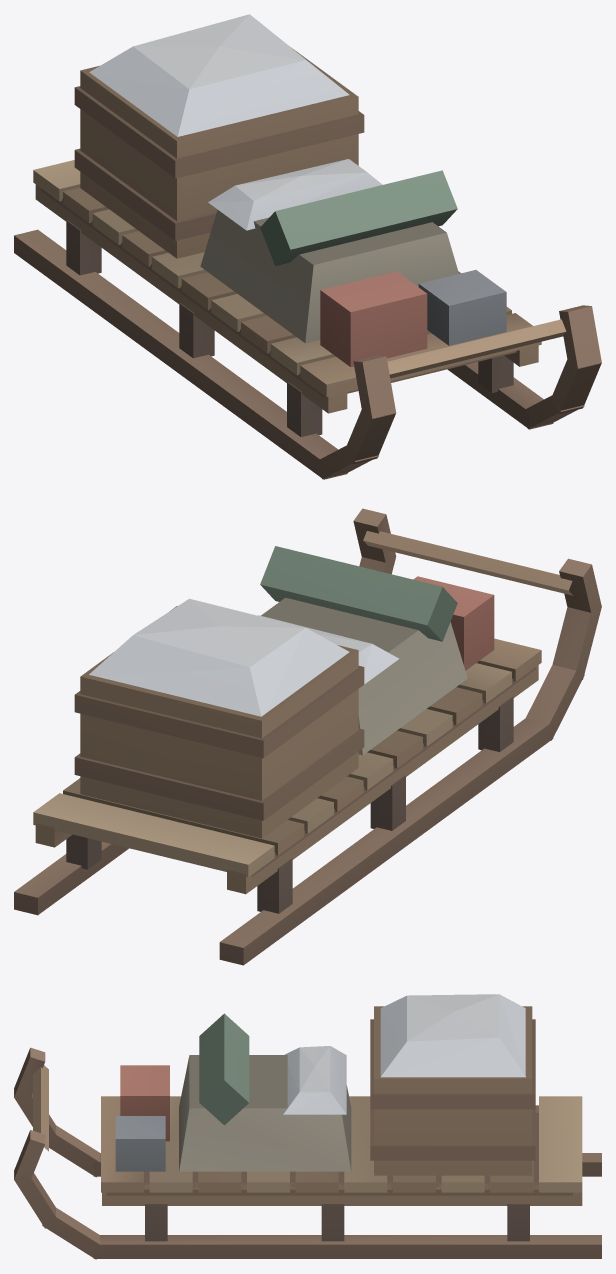
Rendered from sled.lod1.glb.
The picture shows the model from 3 angles, top to bottom: view 1: azimuth 30°, elevation 25°; view 2: azimuth 150°, elevation 25°; view 3: azimuth 270°, elevation 25°; orthographic projection. The views are drawn at different scales.
Bounding box in the file's own units: 0.96 × 0.9819 × 2.6.
